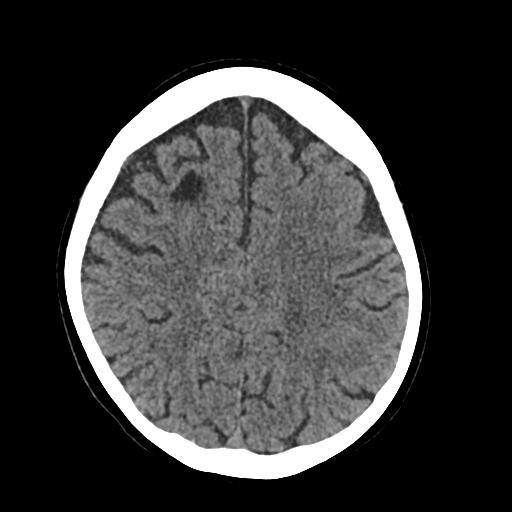Cancer: (152, 153, 224, 214)
